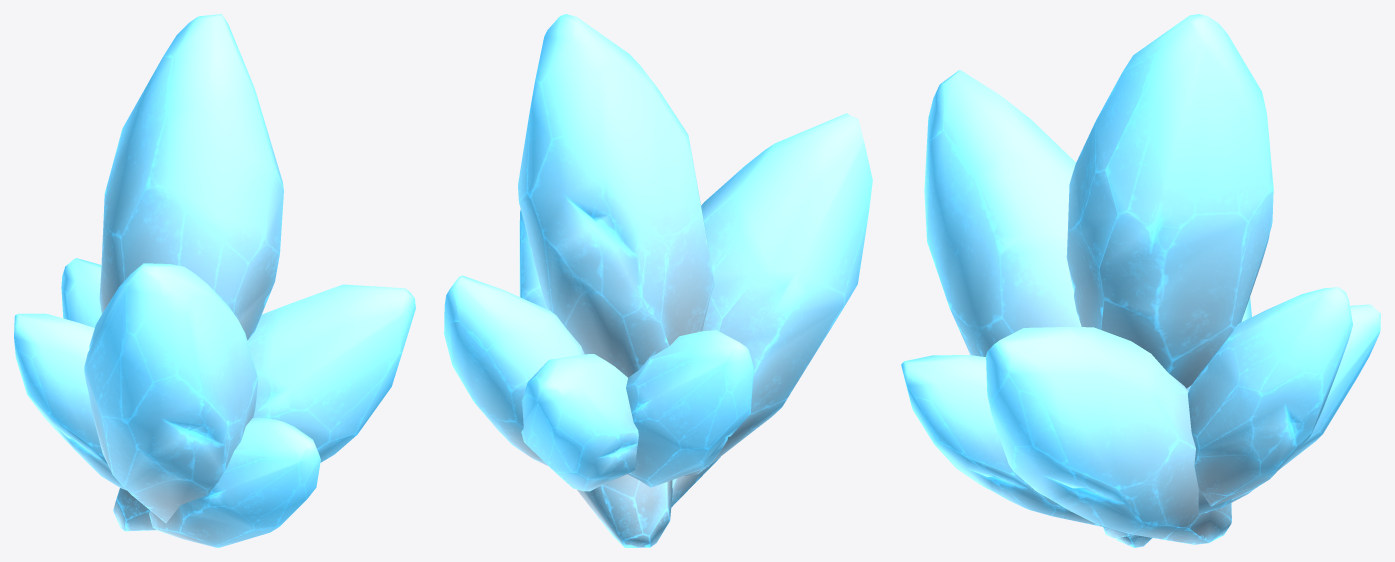
File: Crystal - Cluster v01-bEZYJm1d.glb
3 views of the same model, side by side, from view 1: azimuth 30°, elevation 25°; view 2: azimuth 150°, elevation 25°; view 3: azimuth 270°, elevation 25° (orthographic). The views are drawn at different scales.
Parts seen in each view (by area): view 1: BetterCrystal01, BetterCrystal01 (1), BetterCrystal01 (4), BetterCrystal01 (6), BetterCrystal01 (3), BetterCrystal01 (2); view 2: BetterCrystal01, BetterCrystal01 (1), BetterCrystal01 (3), BetterCrystal01 (5), BetterCrystal01 (2), BetterCrystal01 (4), BetterCrystal01 (6); view 3: BetterCrystal01, BetterCrystal01 (4), BetterCrystal01 (1), BetterCrystal01 (5), BetterCrystal01 (6), BetterCrystal01 (2).
Boxes of the visible parts, x1,y1,x2,y2 form: BetterCrystal01: (99, 14, 283, 340); BetterCrystal01 (1): (84, 263, 258, 523); BetterCrystal01 (4): (113, 284, 415, 531); BetterCrystal01 (6): (149, 417, 320, 547); BetterCrystal01 (3): (14, 313, 126, 490); BetterCrystal01 (2): (61, 258, 101, 327); BetterCrystal01: (518, 14, 714, 377); BetterCrystal01 (1): (684, 113, 872, 475); BetterCrystal01 (3): (626, 330, 753, 487); BetterCrystal01 (5): (444, 275, 584, 465); BetterCrystal01 (2): (521, 354, 638, 491); BetterCrystal01 (4): (519, 210, 672, 547); BetterCrystal01 (6): (671, 457, 720, 507); BetterCrystal01: (1066, 14, 1273, 388); BetterCrystal01 (4): (986, 327, 1231, 544); BetterCrystal01 (1): (924, 70, 1081, 356); BetterCrystal01 (5): (1187, 287, 1352, 512); BetterCrystal01 (6): (901, 355, 1102, 526); BetterCrystal01 (2): (1102, 304, 1380, 538).
Bounding box in the file's own units: 3.03 × 4.58 × 3.59.
